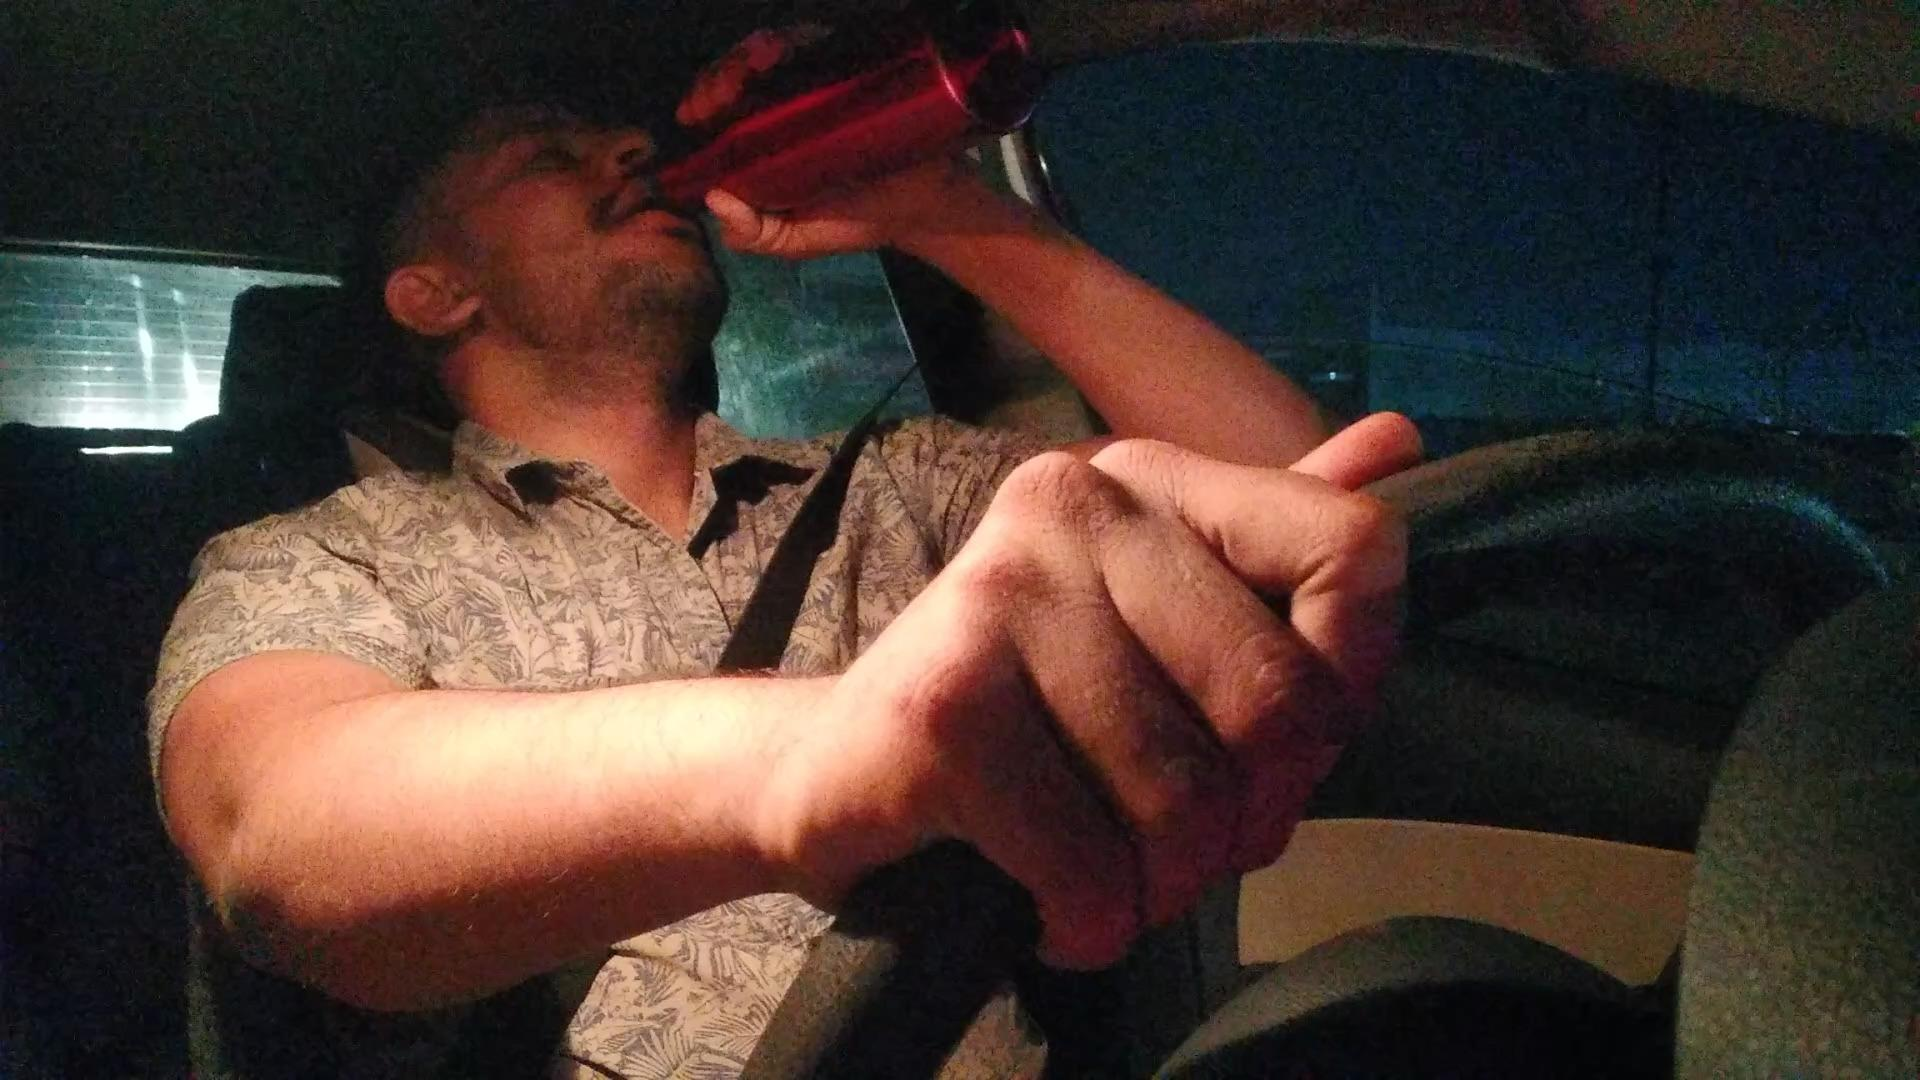Drinking: (666, 5, 1040, 241)
